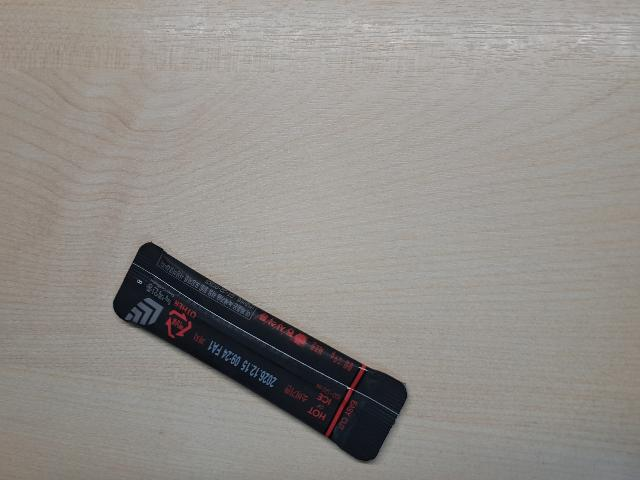KANU: (89, 226, 415, 478)
